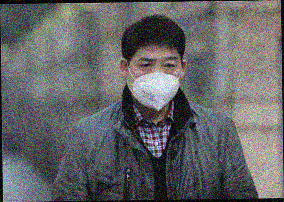with_mask: (126, 54, 182, 111)
